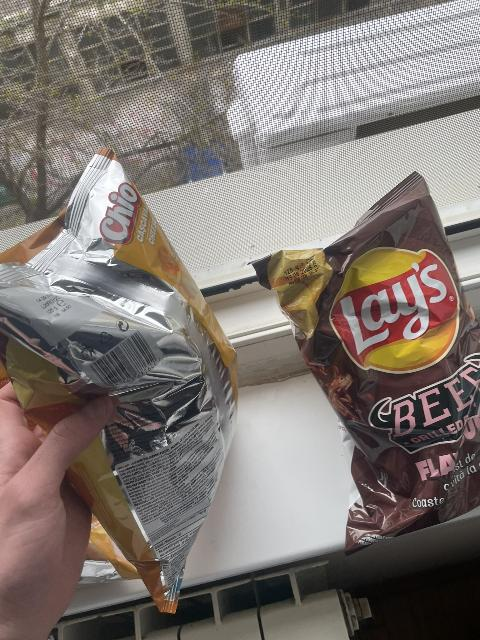Chio Cascaval 125g: (1, 167, 243, 596)
Lays Beef Grilled Ribs 125g: (246, 167, 478, 545)
